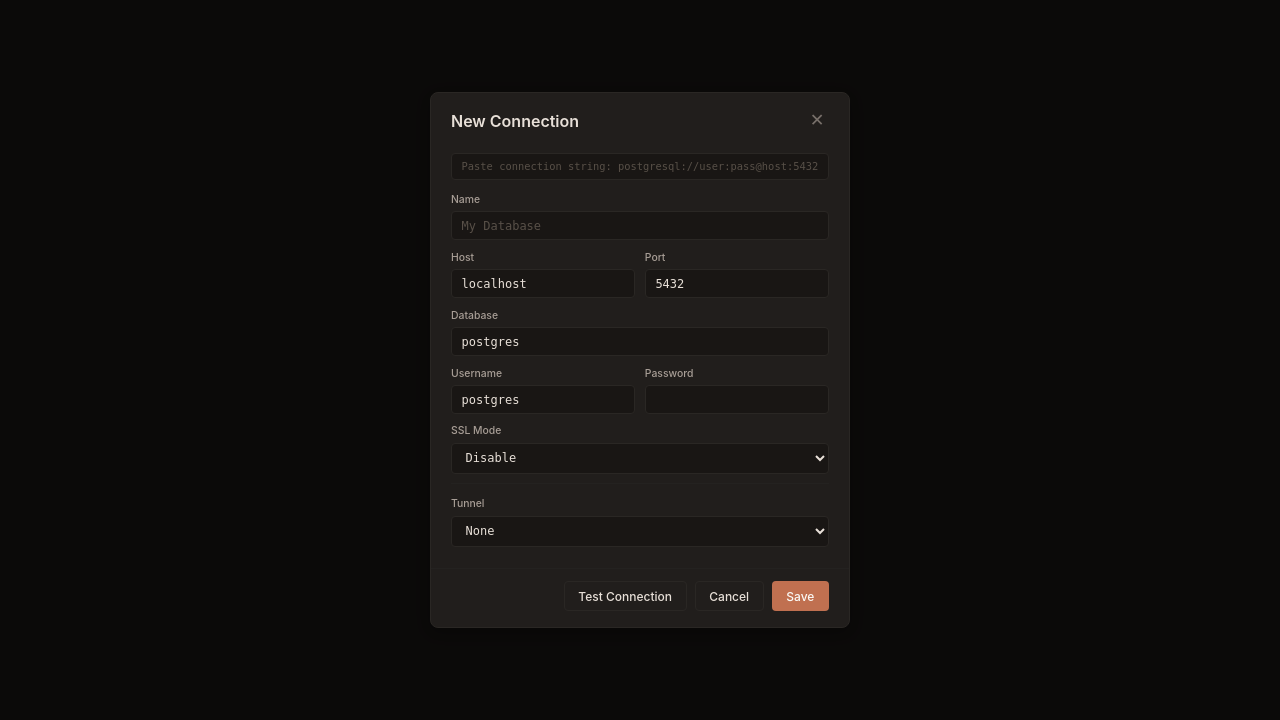
it: ConnectionModal › shows Testing… while testing
This screenshot has width=1280, height=720.
Click the button "Test Connection" at (625, 596), box [564,582,687,611]
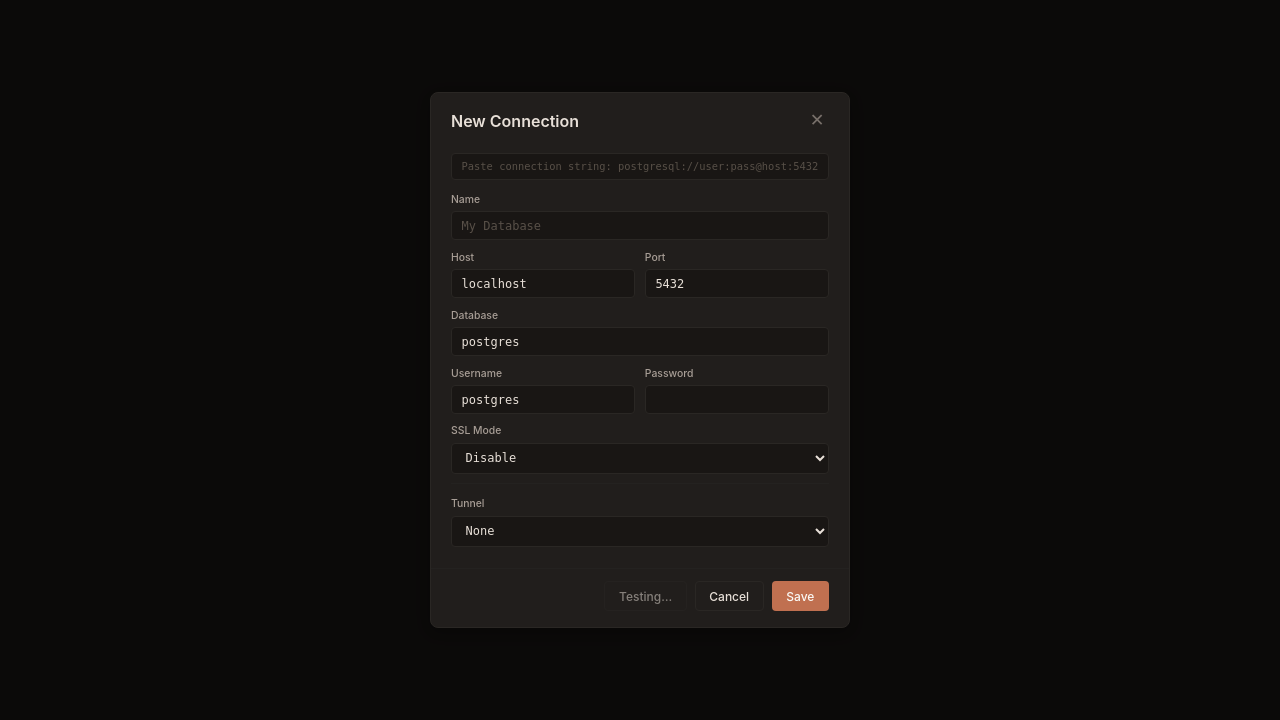
Now the button "Testing…" is shown, box [604,582,687,611]
